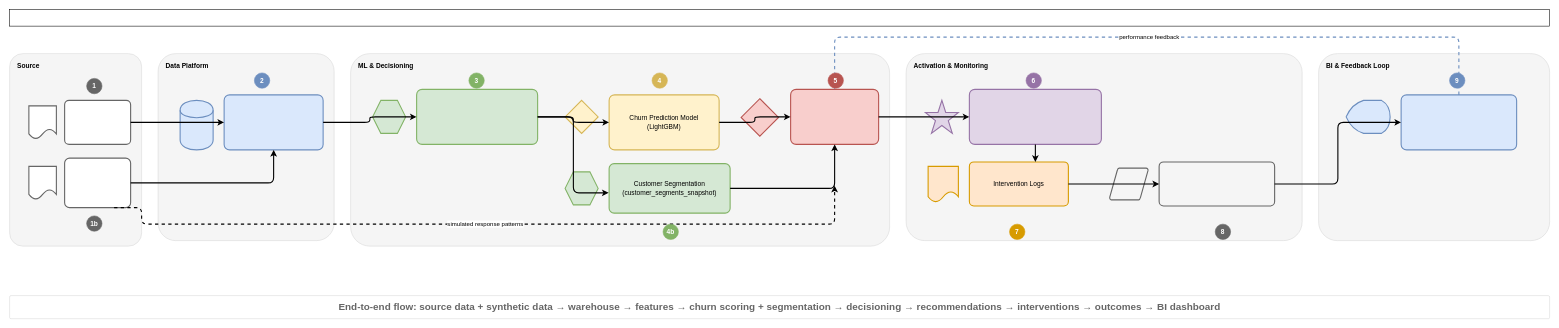
Image size: 1559x328. Some labels were removed from this diagram. The shapes that lost their labels are listed below. From the top down, each one's centre as x and y in pixels, then its label:
(779,17): Customer Churn & Retention Architecture
(97,122): Olist Dataset
(273,122): PostgreSQL Data Warehouse (hpce schema)
(477,117): Feature Engineering Pipeline (customer_features_daily)
(834,117): Decision Engine churn_prob → risk_band → action
(1035,117): Recommendation Engine popular / cross-sell / retention
(1458,122): Power BI Dashboard
(97,182): Synthetic Data response simulation feedback loop support
(1216,183): Intervention Outcomes
